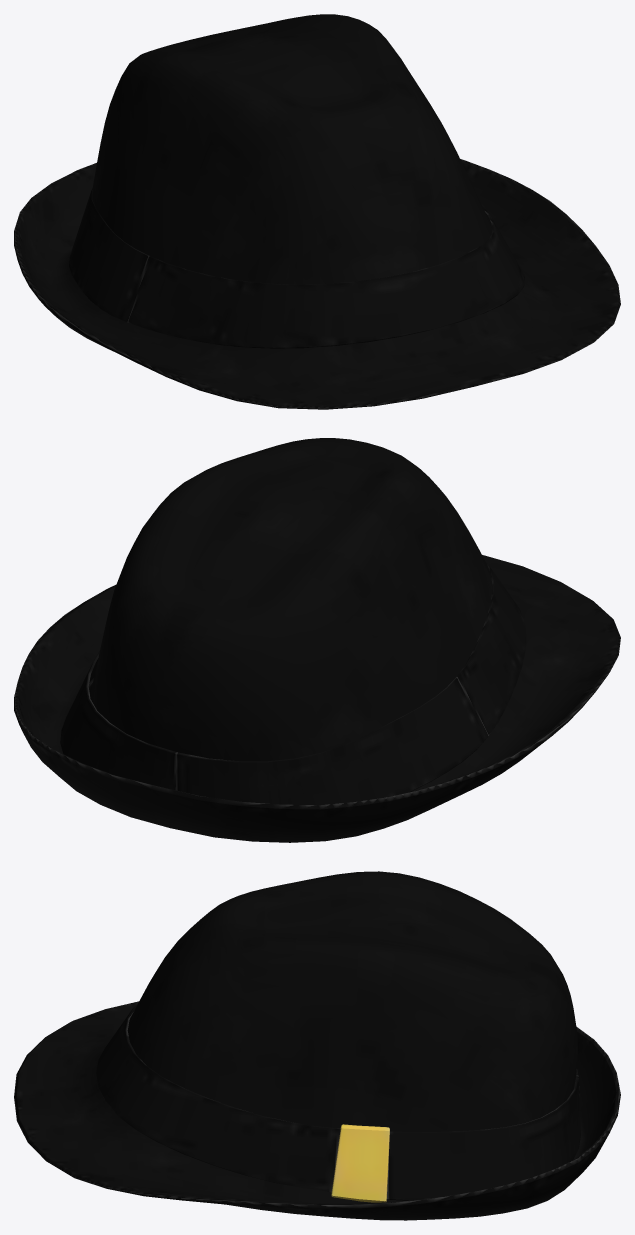
File: fedora.glb
The picture shows the model from 3 angles, top to bottom: view 1: azimuth 30°, elevation 25°; view 2: azimuth 150°, elevation 25°; view 3: azimuth 270°, elevation 25°; orthographic projection. The views are drawn at different scales.
Visible parts, largest first — view 1: defaultMaterial; view 2: defaultMaterial; view 3: defaultMaterial (×2).
Part boxes in pixels (box(x1,y1,x2,y2)): defaultMaterial: box(14, 14, 620, 409); defaultMaterial: box(14, 438, 620, 842); defaultMaterial (×2): box(14, 871, 620, 1220).
Bounding box in the file's own units: 1.17 × 0.5721 × 1.35.
2 materials, 2 textured.
